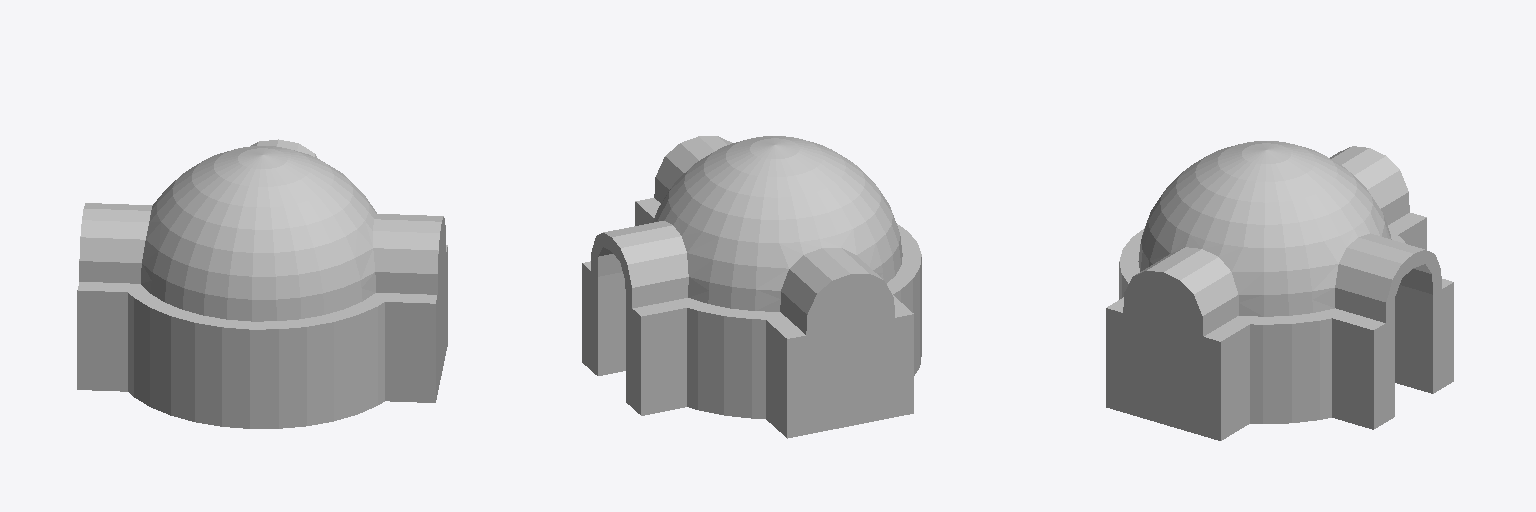
Rendered from hut.obj.
3 views of the same model, side by side, from view 1: azimuth 30°, elevation 25°; view 2: azimuth 150°, elevation 25°; view 3: azimuth 270°, elevation 25° (orthographic).
Visible parts, largest first — view 1: Sphere; view 2: Sphere; view 3: Sphere.
Boxes of the visible parts, <box> form: Sphere: <box>77,139,447,428</box>; Sphere: <box>582,136,921,438</box>; Sphere: <box>1106,141,1453,440</box>.
Size of the model in its own units: 5.66 by 3.54 by 5.26.